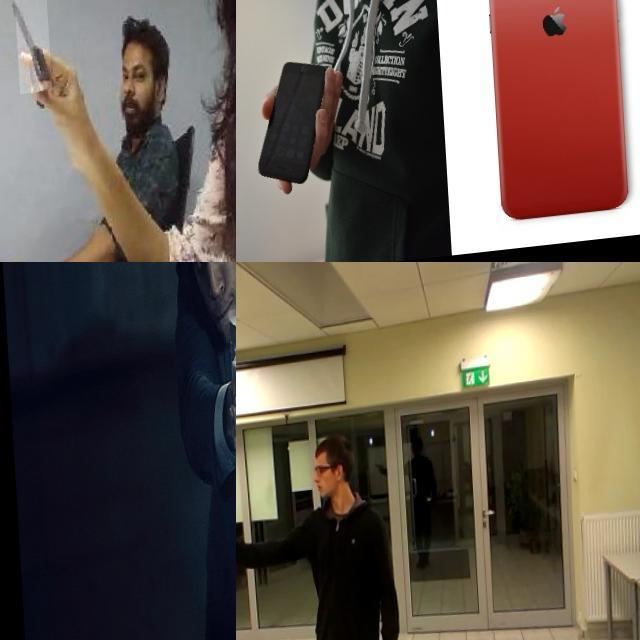-: (12, 1, 48, 102)
gun-knife-thesis - v11 Yolov5 augmented: (236, 519, 254, 561)
